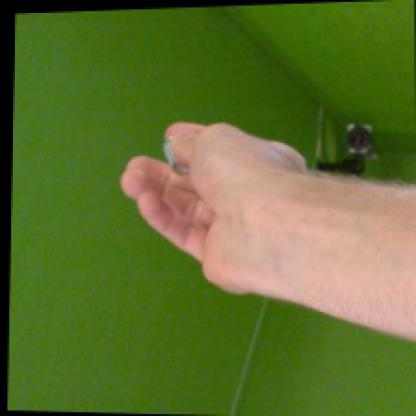Hand: (120, 119, 307, 293)
